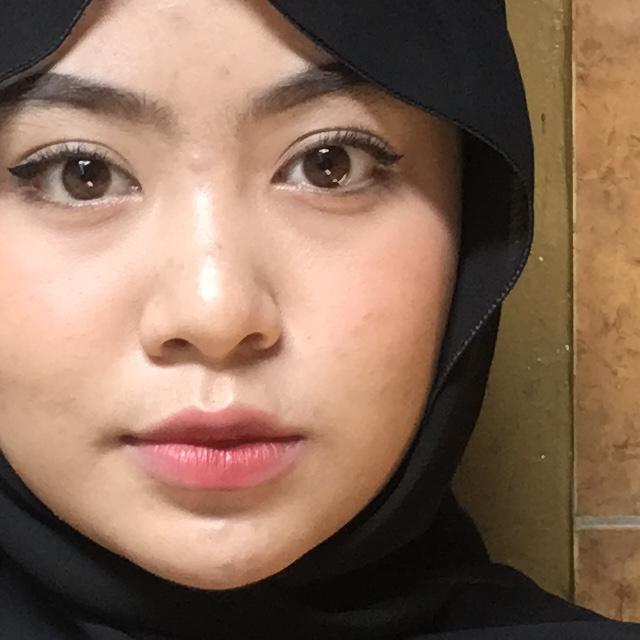ibu: (0, 216, 215, 640)
